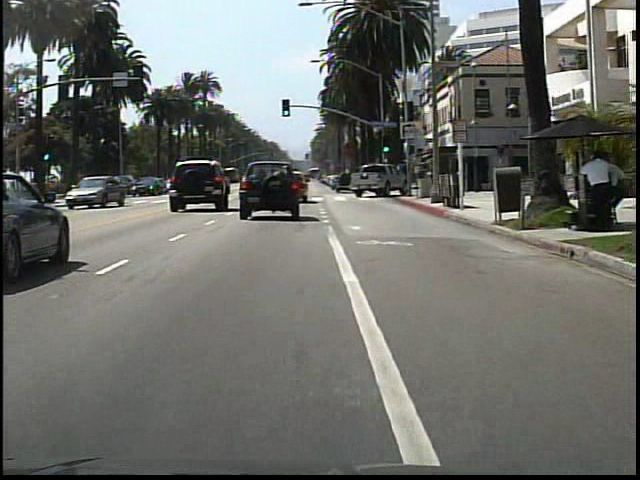person: (576, 147, 612, 234)
